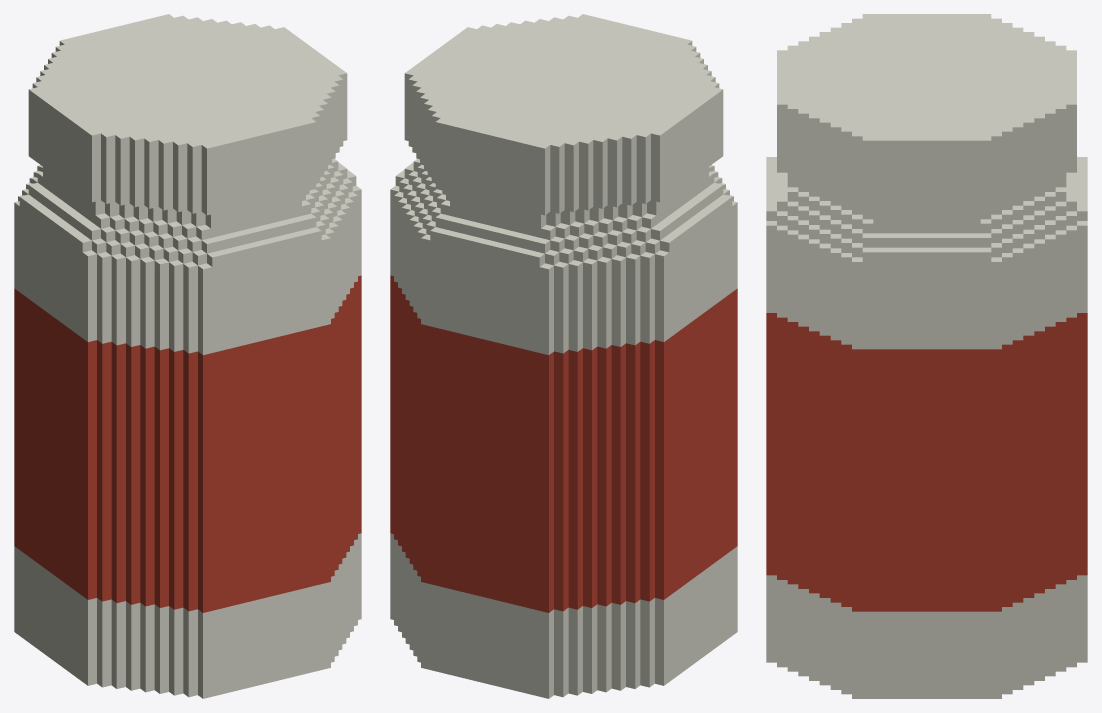
The model's file is multivitamin.glb.
3 renders of one model, left to right at view 1: azimuth 30°, elevation 25°; view 2: azimuth 150°, elevation 25°; view 3: azimuth 270°, elevation 25°, orthographic.
Visible parts, largest first — view 1: multivitamin:vessel; view 2: multivitamin:vessel; view 3: multivitamin:vessel.
Part boxes in pixels (x1,y1,x2,y2): multivitamin:vessel: [14, 14, 361, 698]; multivitamin:vessel: [390, 14, 737, 698]; multivitamin:vessel: [766, 14, 1087, 698].
Size of the model in its own units: 0.06 by 0.114 by 0.06.
